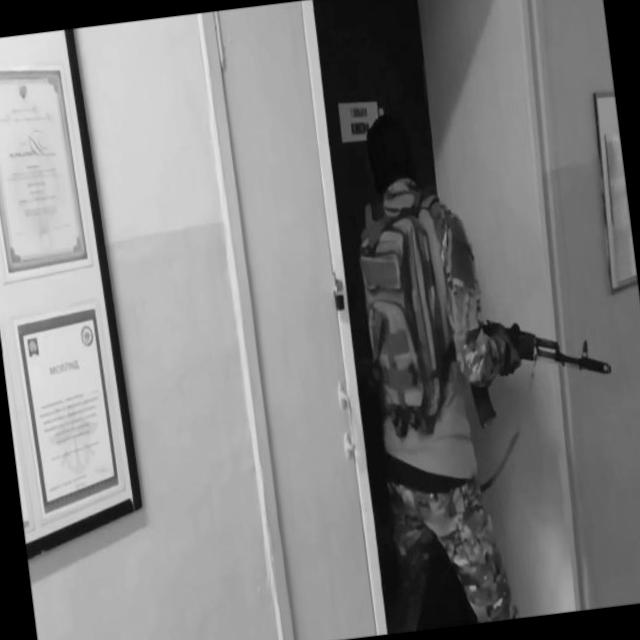gun: (459, 303, 617, 428)
person with a gun: (333, 88, 640, 633)
